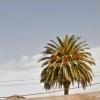Palm tree: (33, 28, 94, 95)
